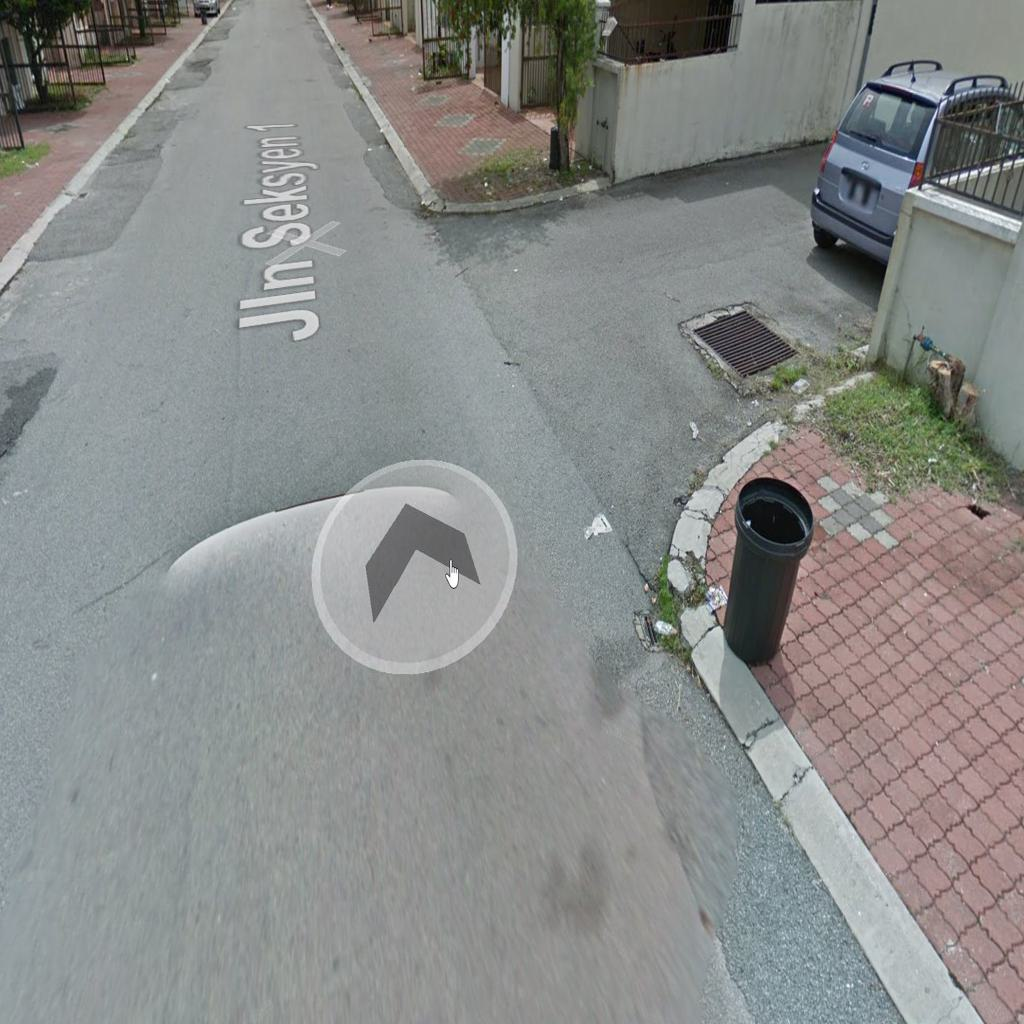Junction: (359, 133, 890, 622)
